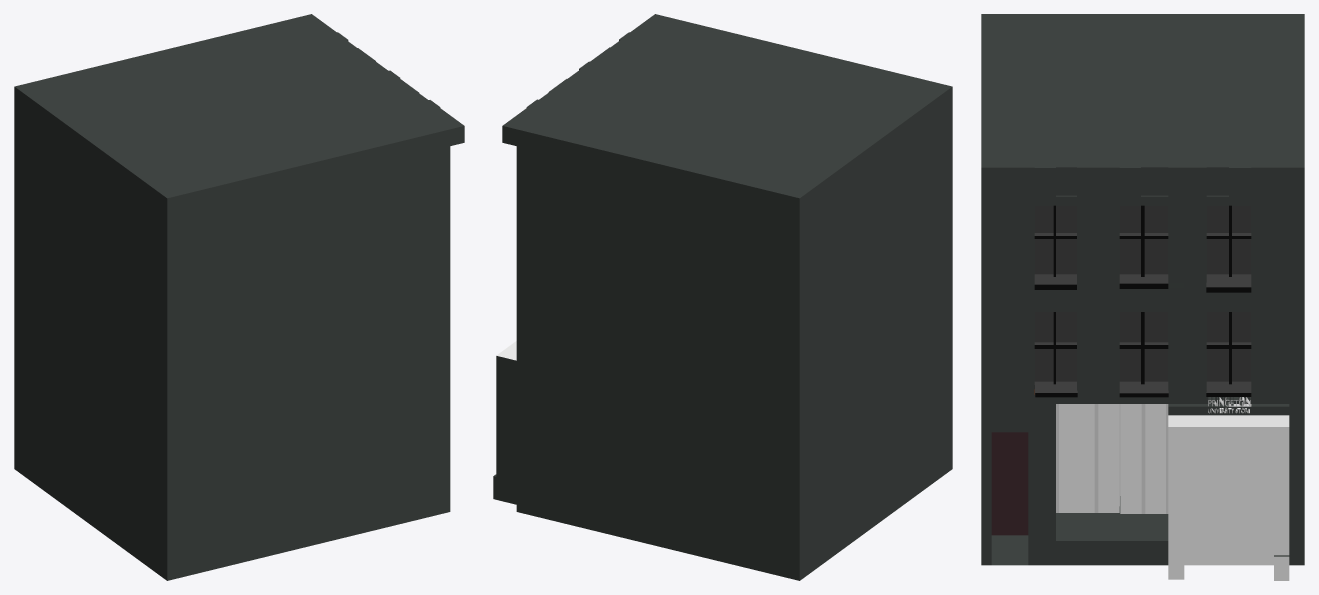
3 views of the same model, side by side, from view 1: azimuth 30°, elevation 25°; view 2: azimuth 150°, elevation 25°; view 3: azimuth 270°, elevation 25° (orthographic). The views are drawn at different scales.
Parts seen in each view (by area): view 1: Ustore; view 2: Ustore; view 3: Ustore.
Boxes of the visible parts, x1,y1,x2,y2 form: Ustore: [14, 14, 464, 580]; Ustore: [493, 14, 952, 580]; Ustore: [981, 14, 1304, 580].
Size of the model in its own units: 33.8 by 39.4 by 28.52.
